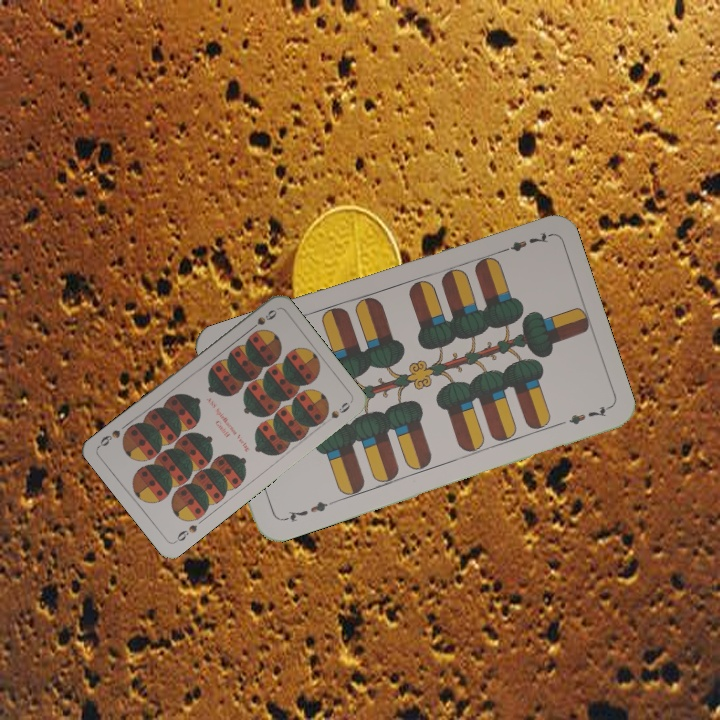E7: (278, 497, 336, 525), (495, 228, 552, 256)
S9: (244, 305, 279, 335), (170, 520, 200, 546)
